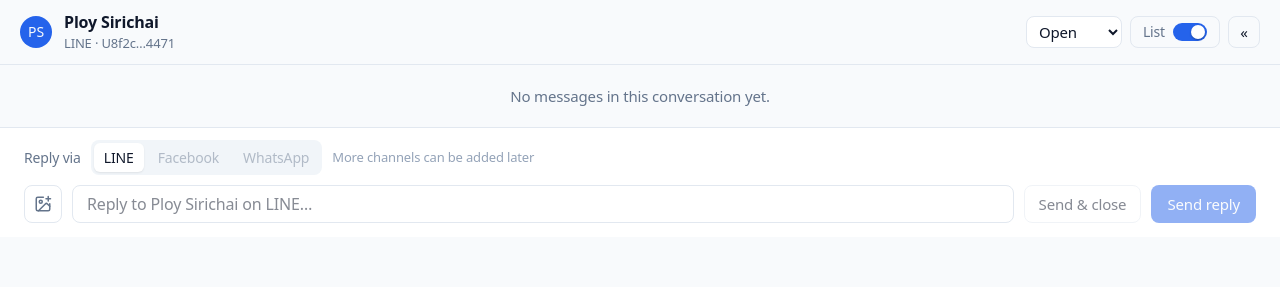
Test: optimistic send › renders a sending bubble immediately, before the server answers
In the field named "Reply message": (543, 204) left=72, top=185, right=1014, bottom=223, type "On the 12th."
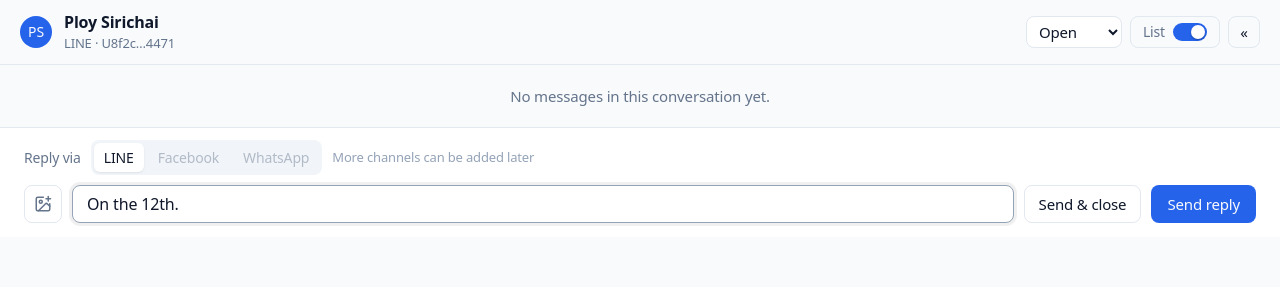
Click the button "Send reply": (1204, 204) left=1151, top=185, right=1256, bottom=223
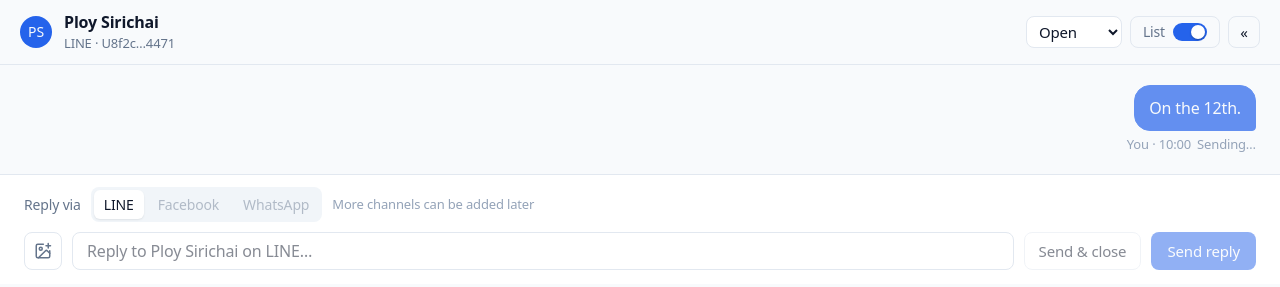
Expected: the element with test id "message-bubble" shows "On the 12th.", left=1149, top=96, right=1241, bottom=118
